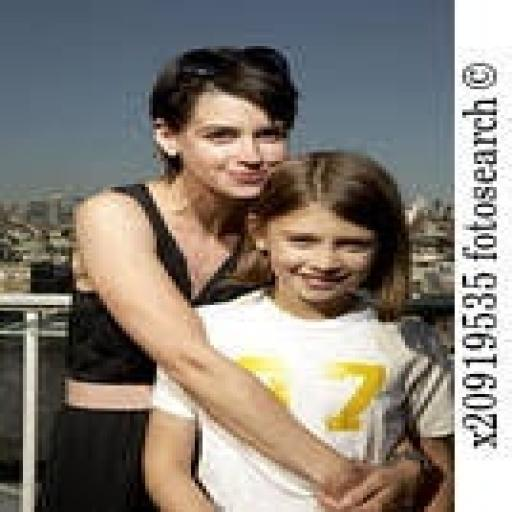hugging: (38, 40, 451, 509)
